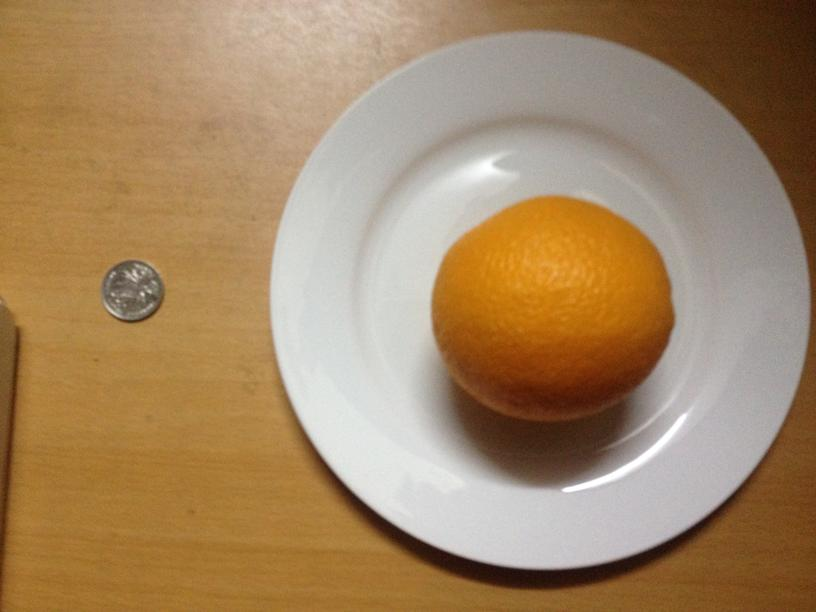coin: (100, 261, 162, 322)
orange: (428, 194, 676, 418)
